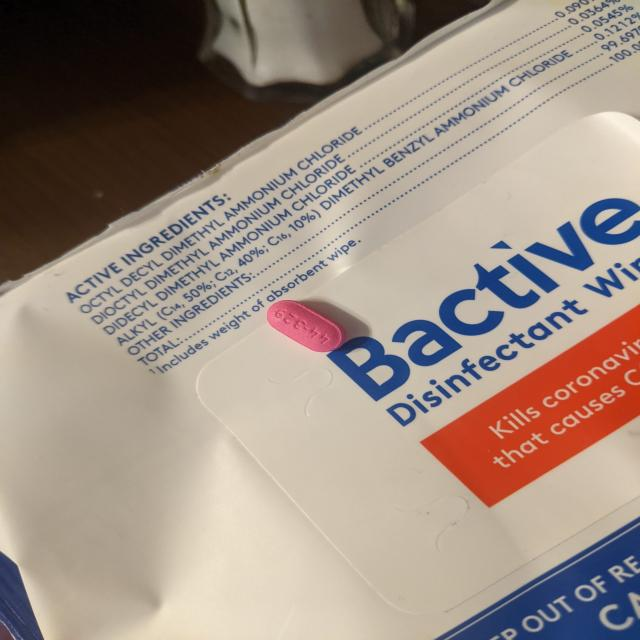non-organic waste: (266, 299, 347, 353)
